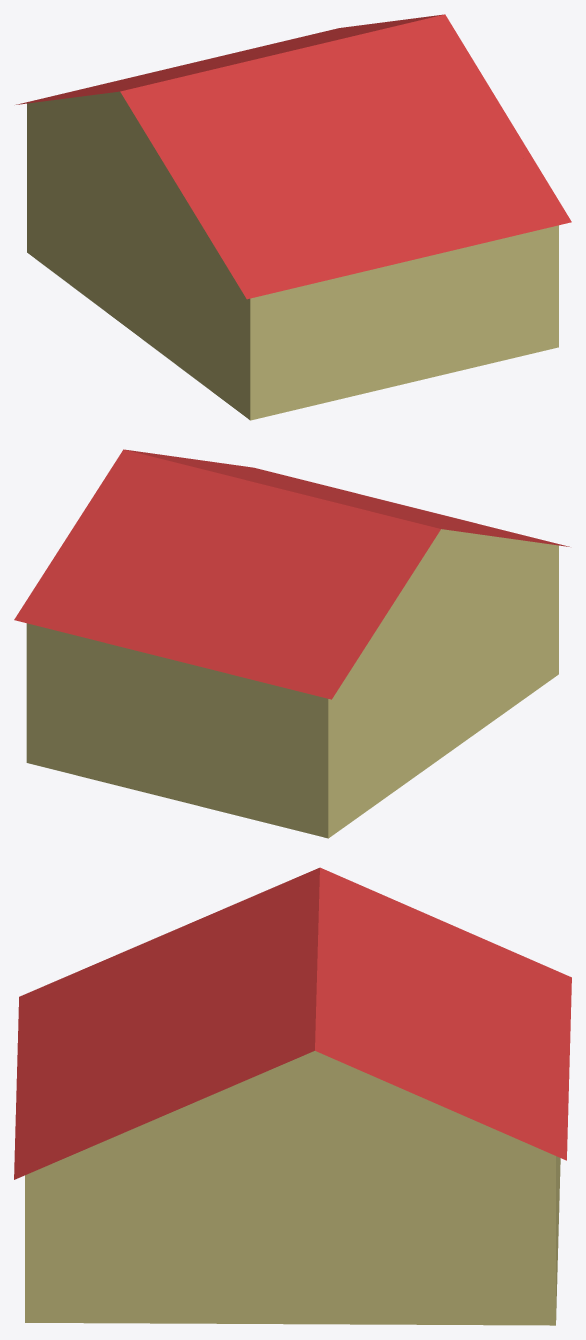
3 views of the same model, one above another, from view 1: azimuth 30°, elevation 25°; view 2: azimuth 150°, elevation 25°; view 3: azimuth 270°, elevation 25° (orthographic). The views are drawn at different scales.
Bounding box in the file's own units: 20 × 25.34 × 13.94.
